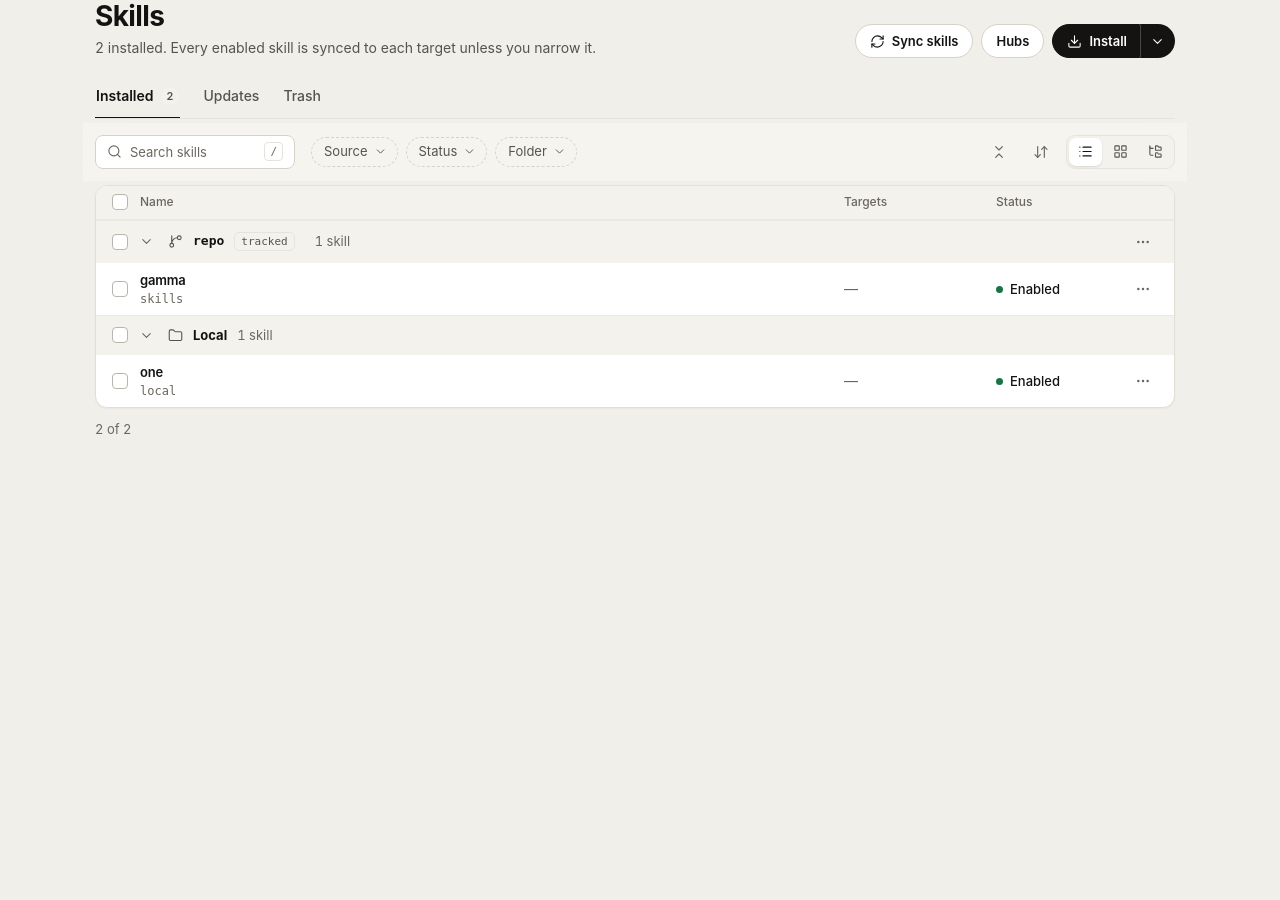
Test case: Move to folder › opens from the selection bar with the skills that can move
Click the checkbox named "one".
click(120, 381)  # box [112,373,128,389]
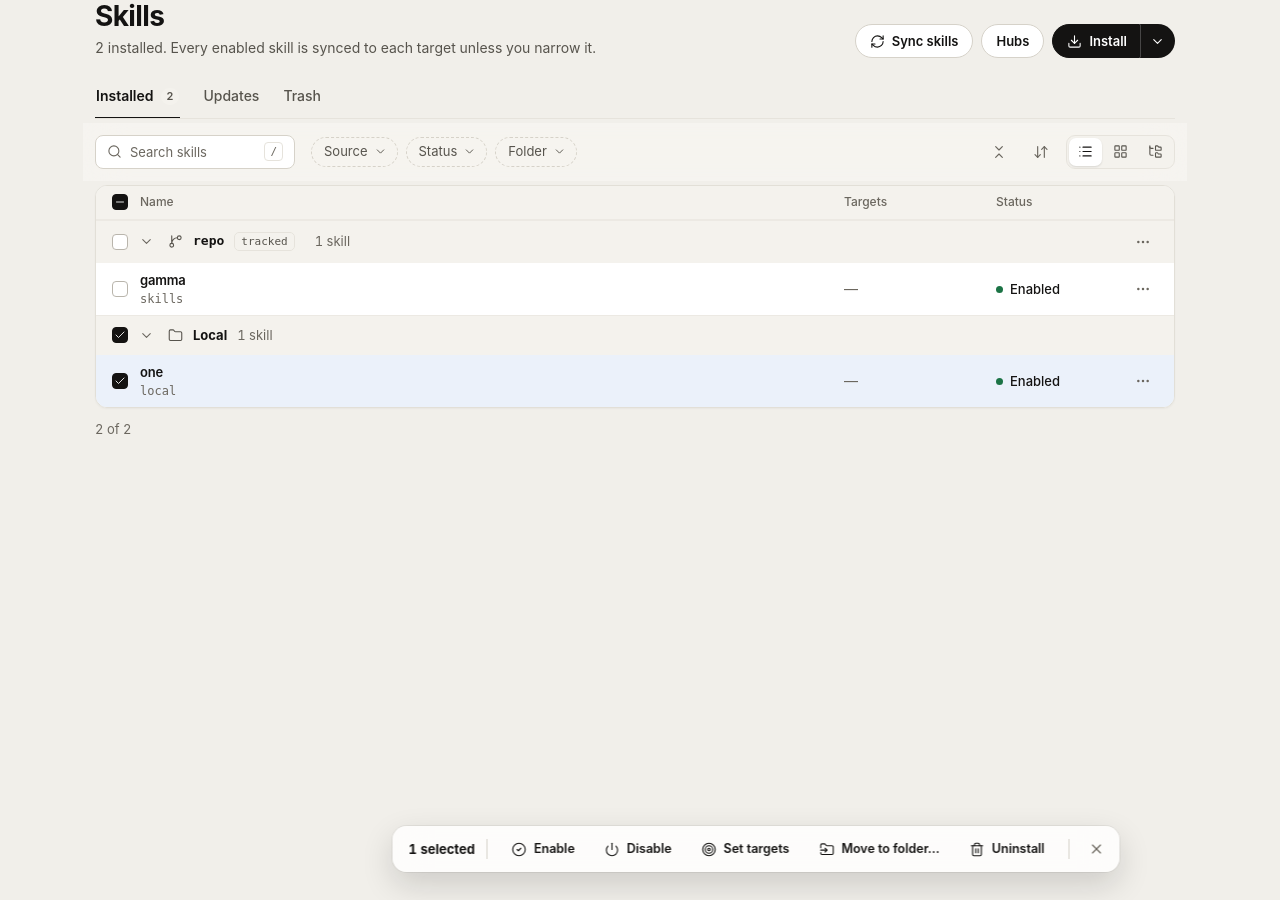
Click the checkbox named "gamma".
click(120, 289)  # box [112,281,128,297]
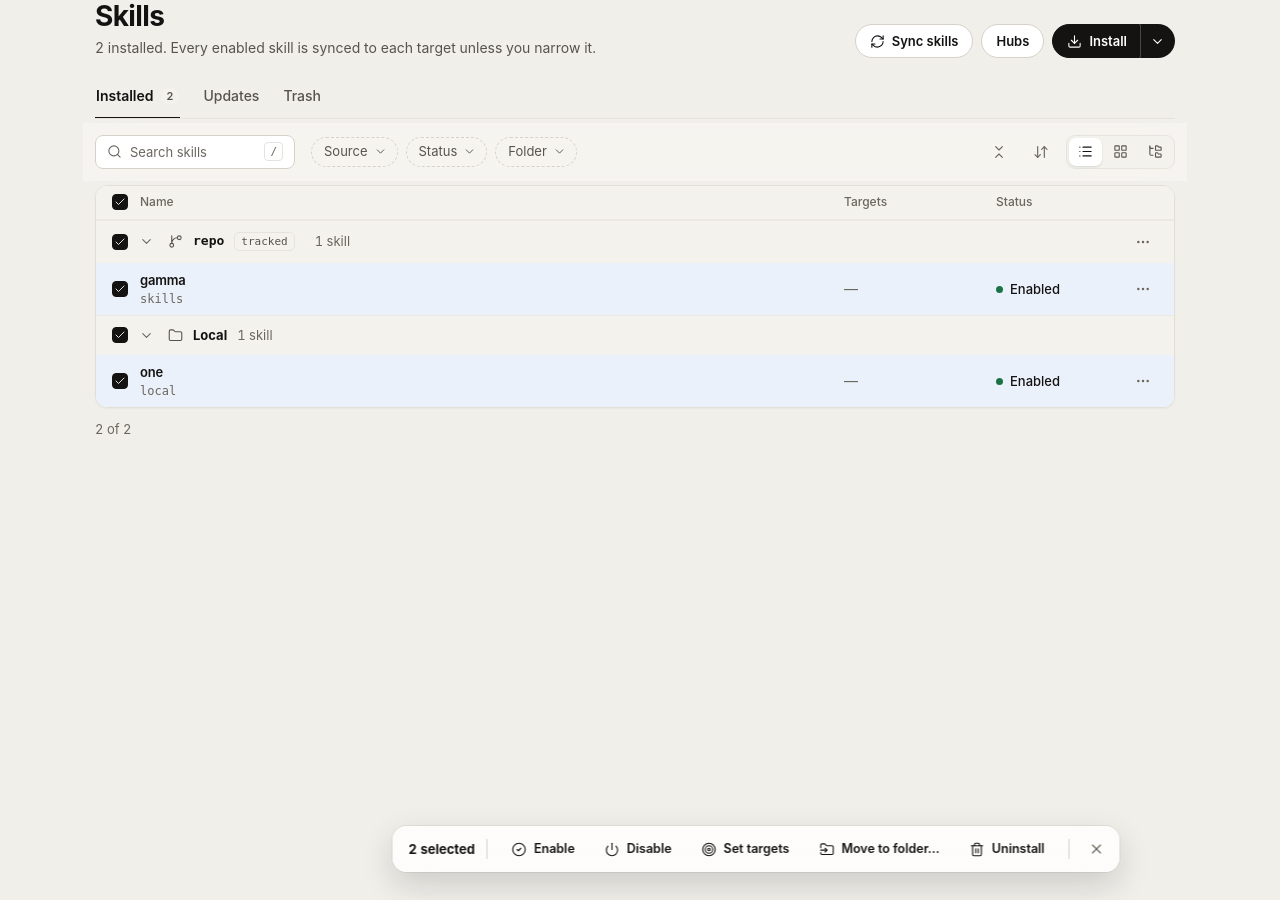
Click the button "Move to folder…".
click(880, 849)  # box [807,835,952,863]
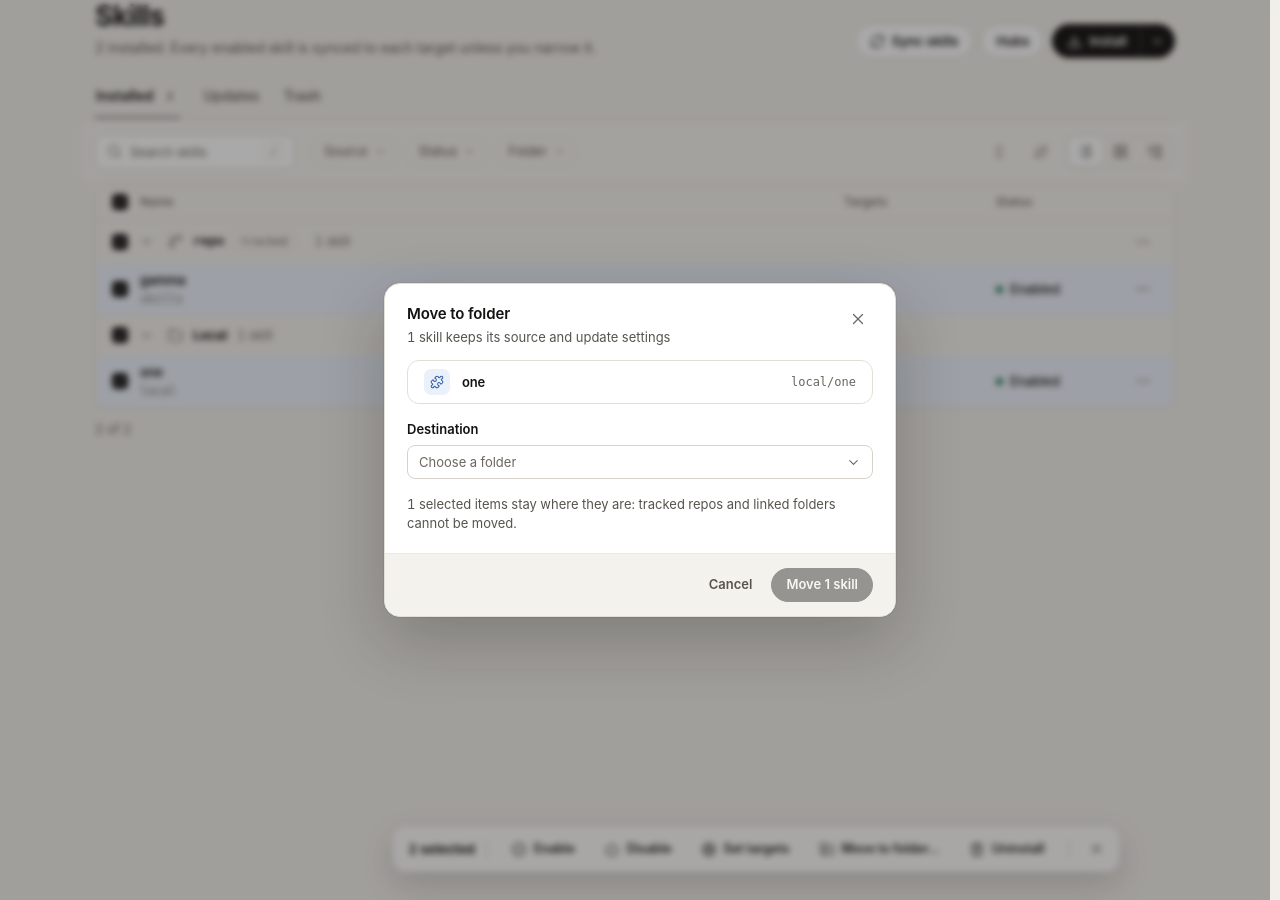
Expected: the text "one" is shown, [462,373,485,392]
Expected: the text "1 selected items stay where they are" is shown, [407,496,836,531]
